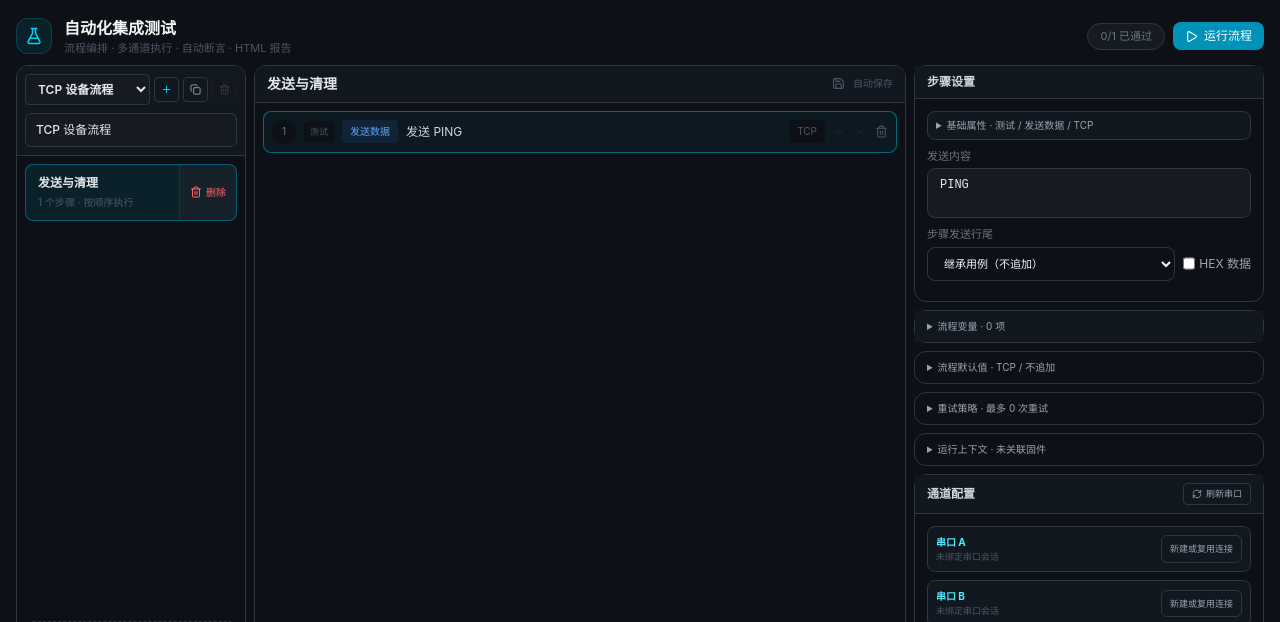
Test: TestAutomationPage centralized Agent workflow › reports a recoverable port enumeration failure without blocking flow editing
Click the button with aria-label "刷新真实串口": (1217, 494) [1183,482,1251,504]
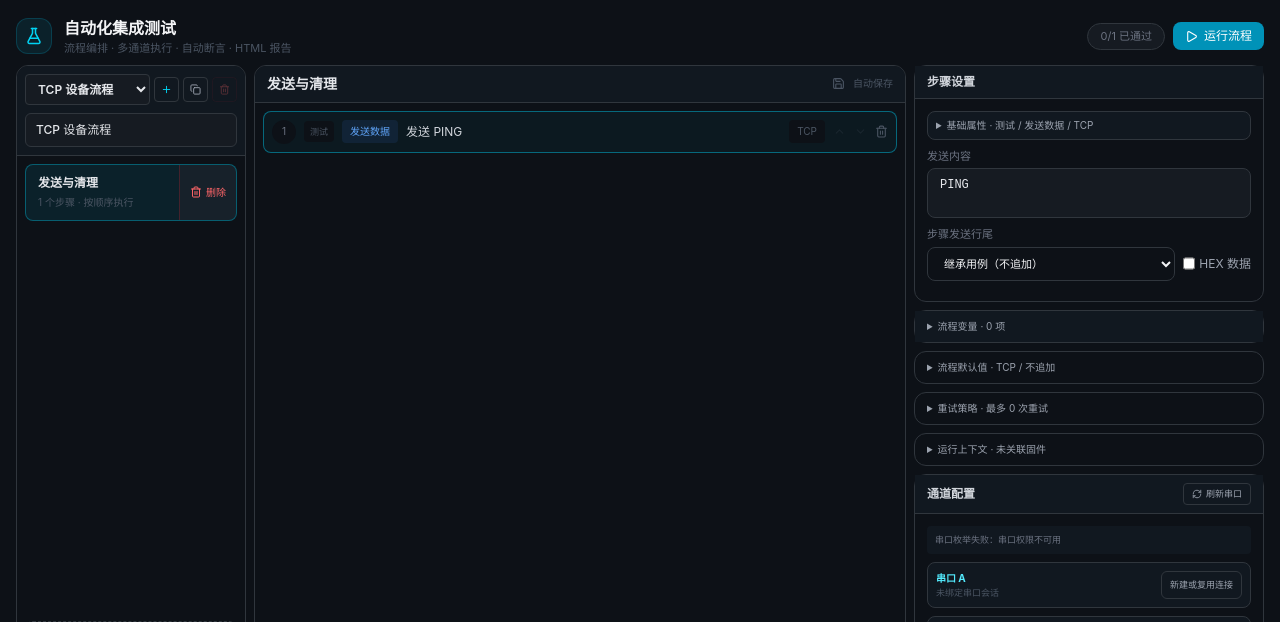
Expected: the text "发送 PING" is shown, [406,124,462,138]
Now the text "串口枚举失败：串口权限不可用" is shown, box [927,526,1251,554]
